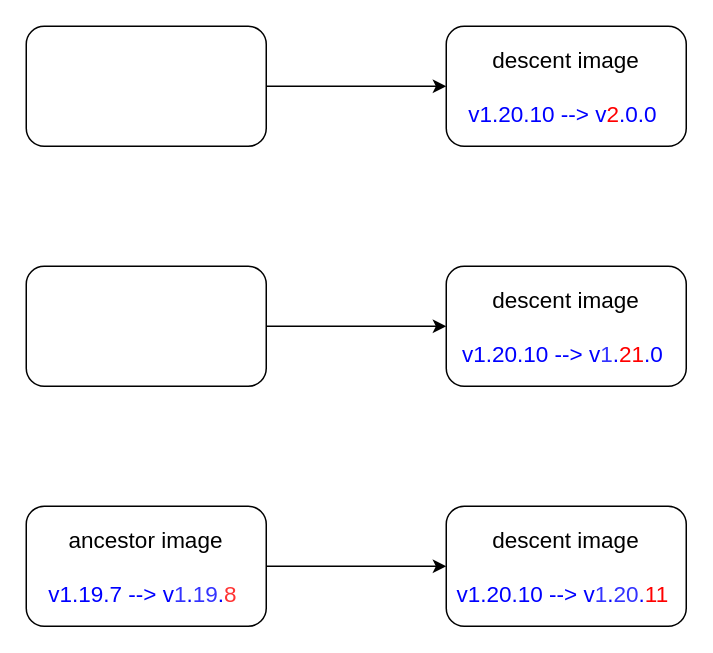
Image size: 713x653. Some labels were removed from this diagram. The shapes that lost their labels are listed below. From the top down, each one's centre as x and y in pixels, then its label:
point (145, 85): ancestor image v1.19.7 --> v 2 .0.0
point (145, 325): ancestor image v1.19.7 --> v 1 . 20 .0
